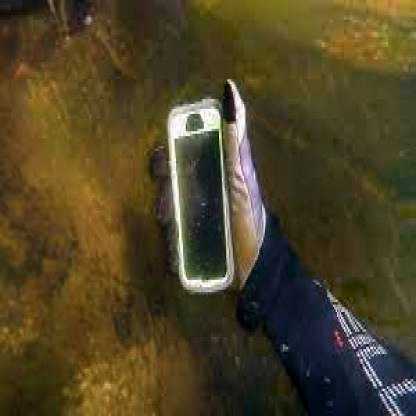cellphone: (169, 99, 233, 295)
